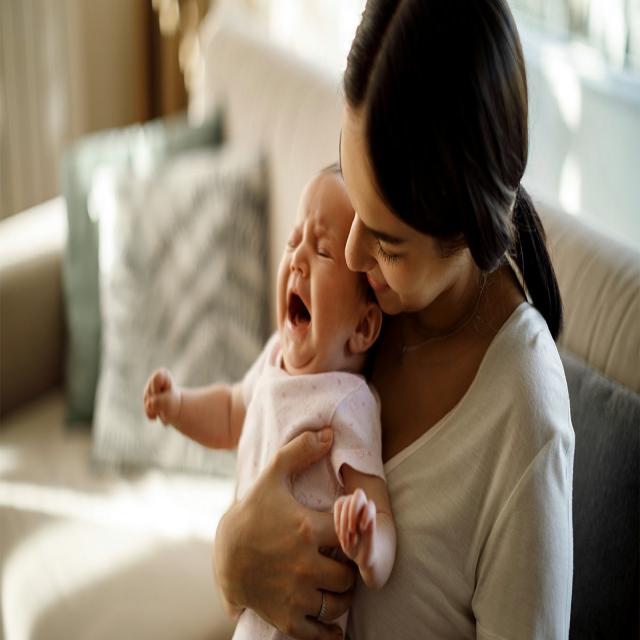adult: (216, 0, 574, 640)
child: (142, 157, 396, 640)
